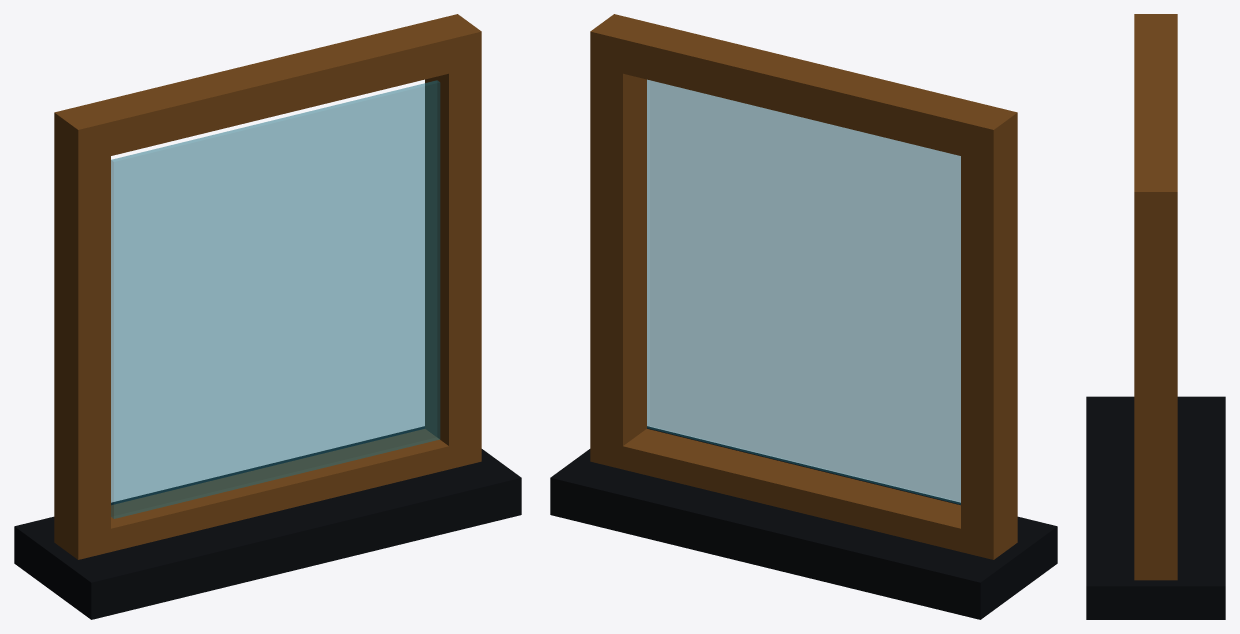
Rendered from nf_world_frame.obj.
3 views of the same model, side by side, from view 1: azimuth 30°, elevation 25°; view 2: azimuth 150°, elevation 25°; view 3: azimuth 270°, elevation 25° (orthographic). The views are drawn at different scales.
Visible parts, largest first — view 1: replaceable_plane, base, left_frame, right_frame, top_frame, bottom_frame; view 2: replaceable_plane, base, left_frame, right_frame, top_frame, bottom_frame; view 3: base, right_frame, top_frame.
Boxes of the visible parts, <box> form: replaceable_plane: <box>111,80,440,518</box>; base: <box>14,426,521,619</box>; left_frame: <box>54,114,110,559</box>; right_frame: <box>425,33,481,469</box>; top_frame: <box>54,14,481,163</box>; bottom_frame: <box>104,429,481,551</box>; replaceable_plane: <box>647,79,960,504</box>; base: <box>550,426,1057,619</box>; left_frame: <box>961,114,1017,559</box>; right_frame: <box>590,33,646,469</box>; top_frame: <box>590,14,1017,163</box>; bottom_frame: <box>590,429,966,551</box>; base: <box>1086,396,1225,619</box>; right_frame: <box>1134,193,1177,580</box>; top_frame: <box>1134,14,1177,222</box>.
Size of the model in its own units: 2.9 by 3.01 by 0.9.
